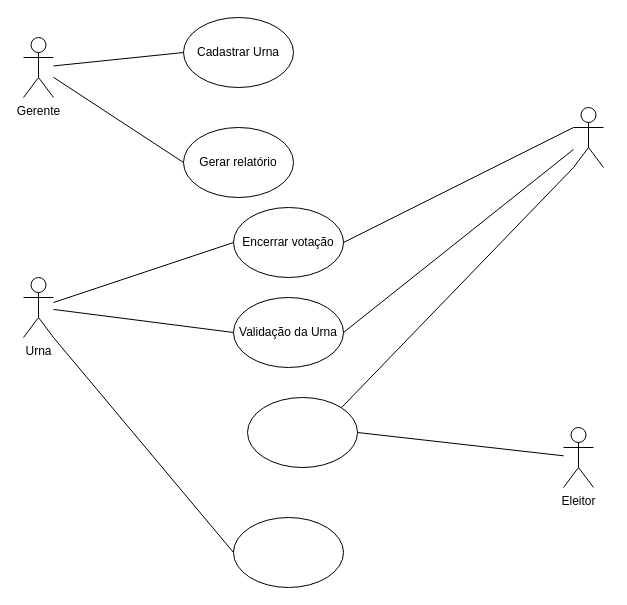
This 627x605 diagram has some shape labels left out. The centre of each missing label's shape, as x and y in pixels:
Confirmar número de identificação: the point at 302,432
Mesário: the point at 588,137
Selecionar candidato: the point at 288,552
